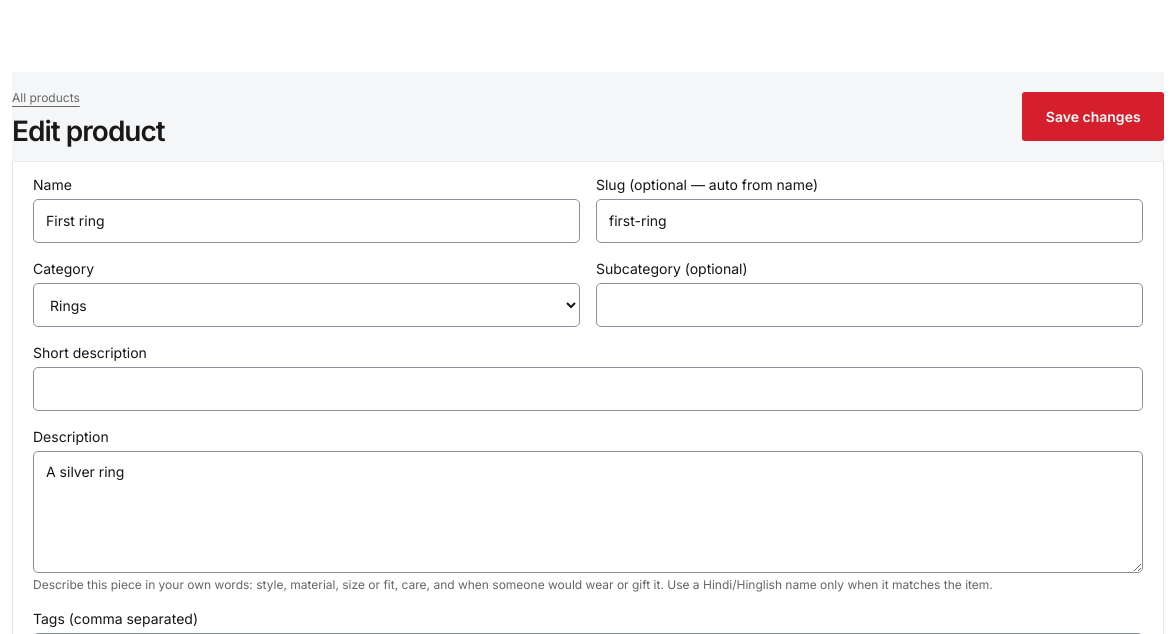
Test: shows API failures and enables a retry after a failed save
Click the button "Save changes" at (1093, 116), box x1=1022 y1=92 x2=1164 y2=141
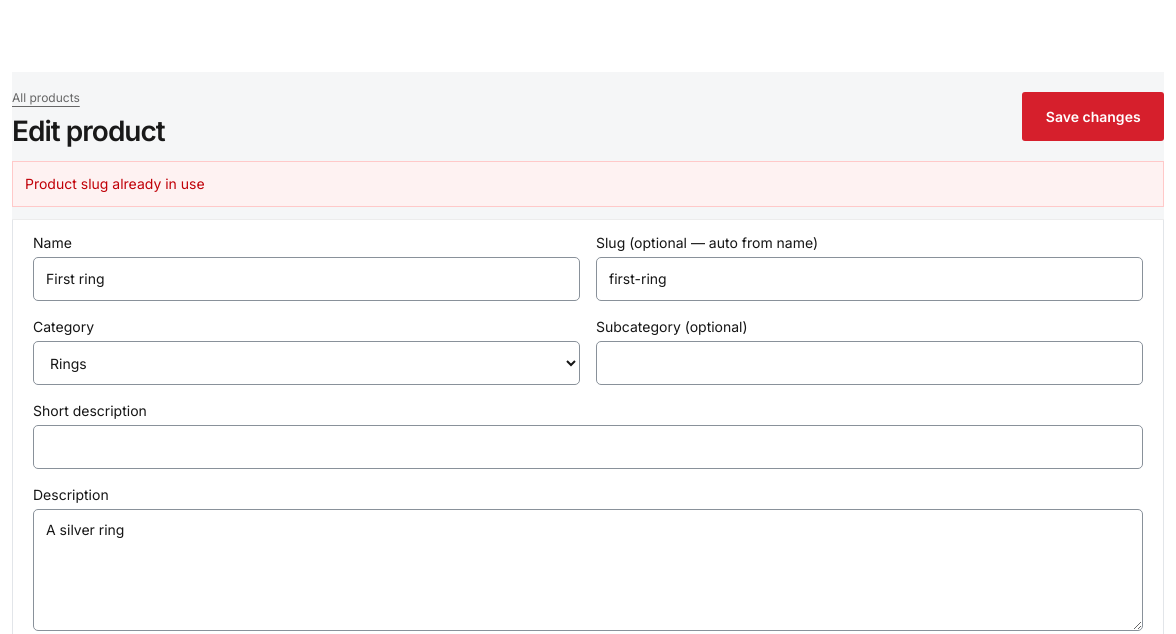
Now the message reads "Product slug already in use", box x1=25 y1=175 x2=205 y2=192
Replace the text in the field labelled "Slug (optional — auto from name)" with "available-slug" at (870, 279), box x1=596 y1=257 x2=1143 y2=301
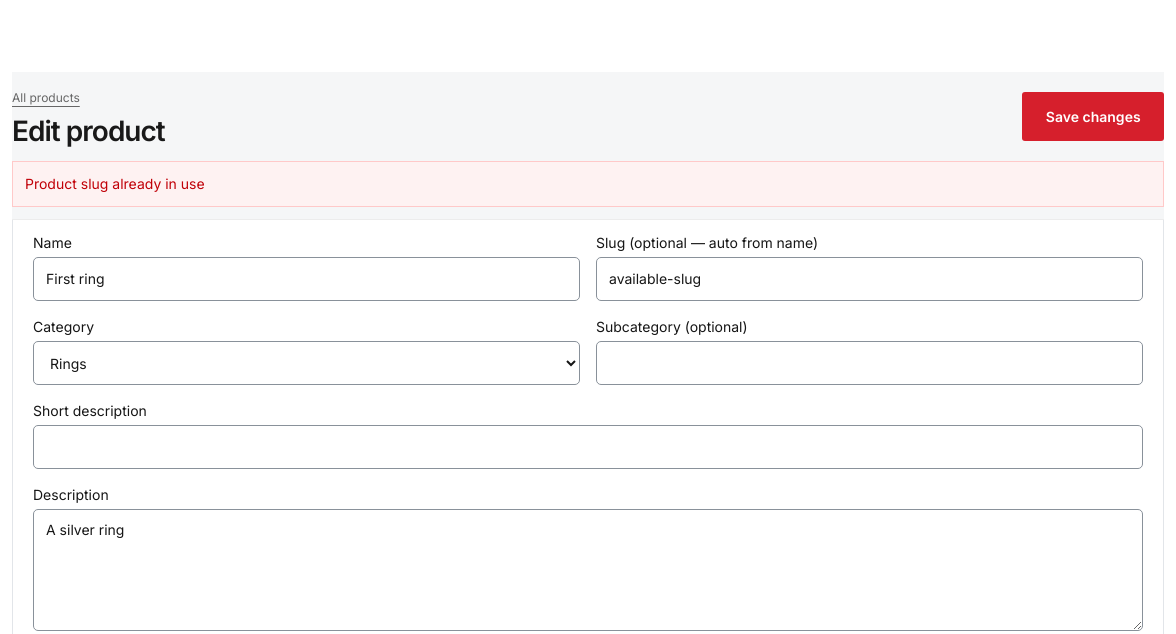
Click the button "Save changes" at (1093, 116), box x1=1022 y1=92 x2=1164 y2=141
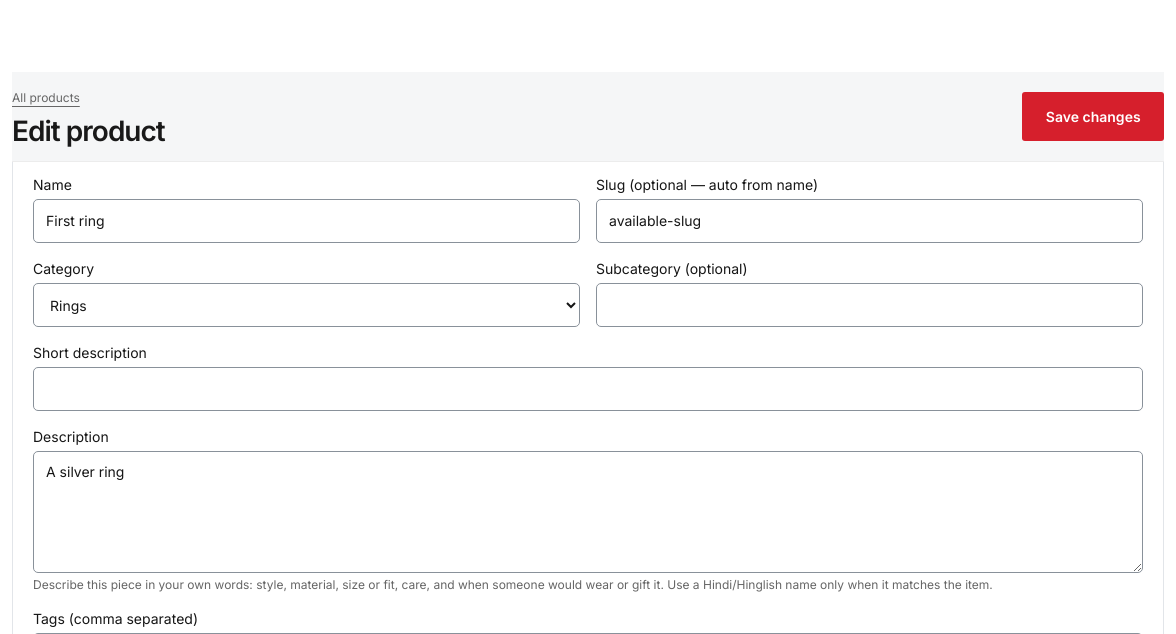
Now the message "Product slug already in use" is gone
